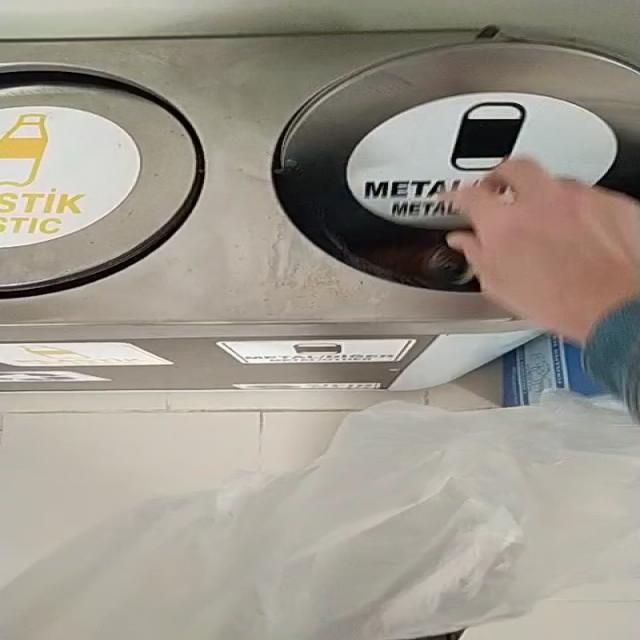bin: (1, 32, 640, 389)
metal: (364, 238, 479, 290)
